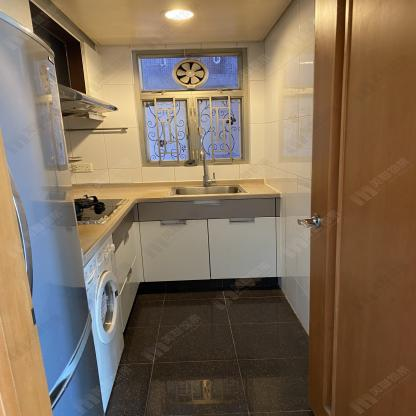Cupboard: (142, 197, 281, 282)
Exhaust Fan: (169, 58, 216, 91)
Exhaust Hood: (59, 84, 116, 117)
Faucet: (197, 145, 217, 187)
Fridge: (0, 11, 101, 416)
Sink: (161, 178, 255, 202)
Stove: (76, 194, 125, 225)
